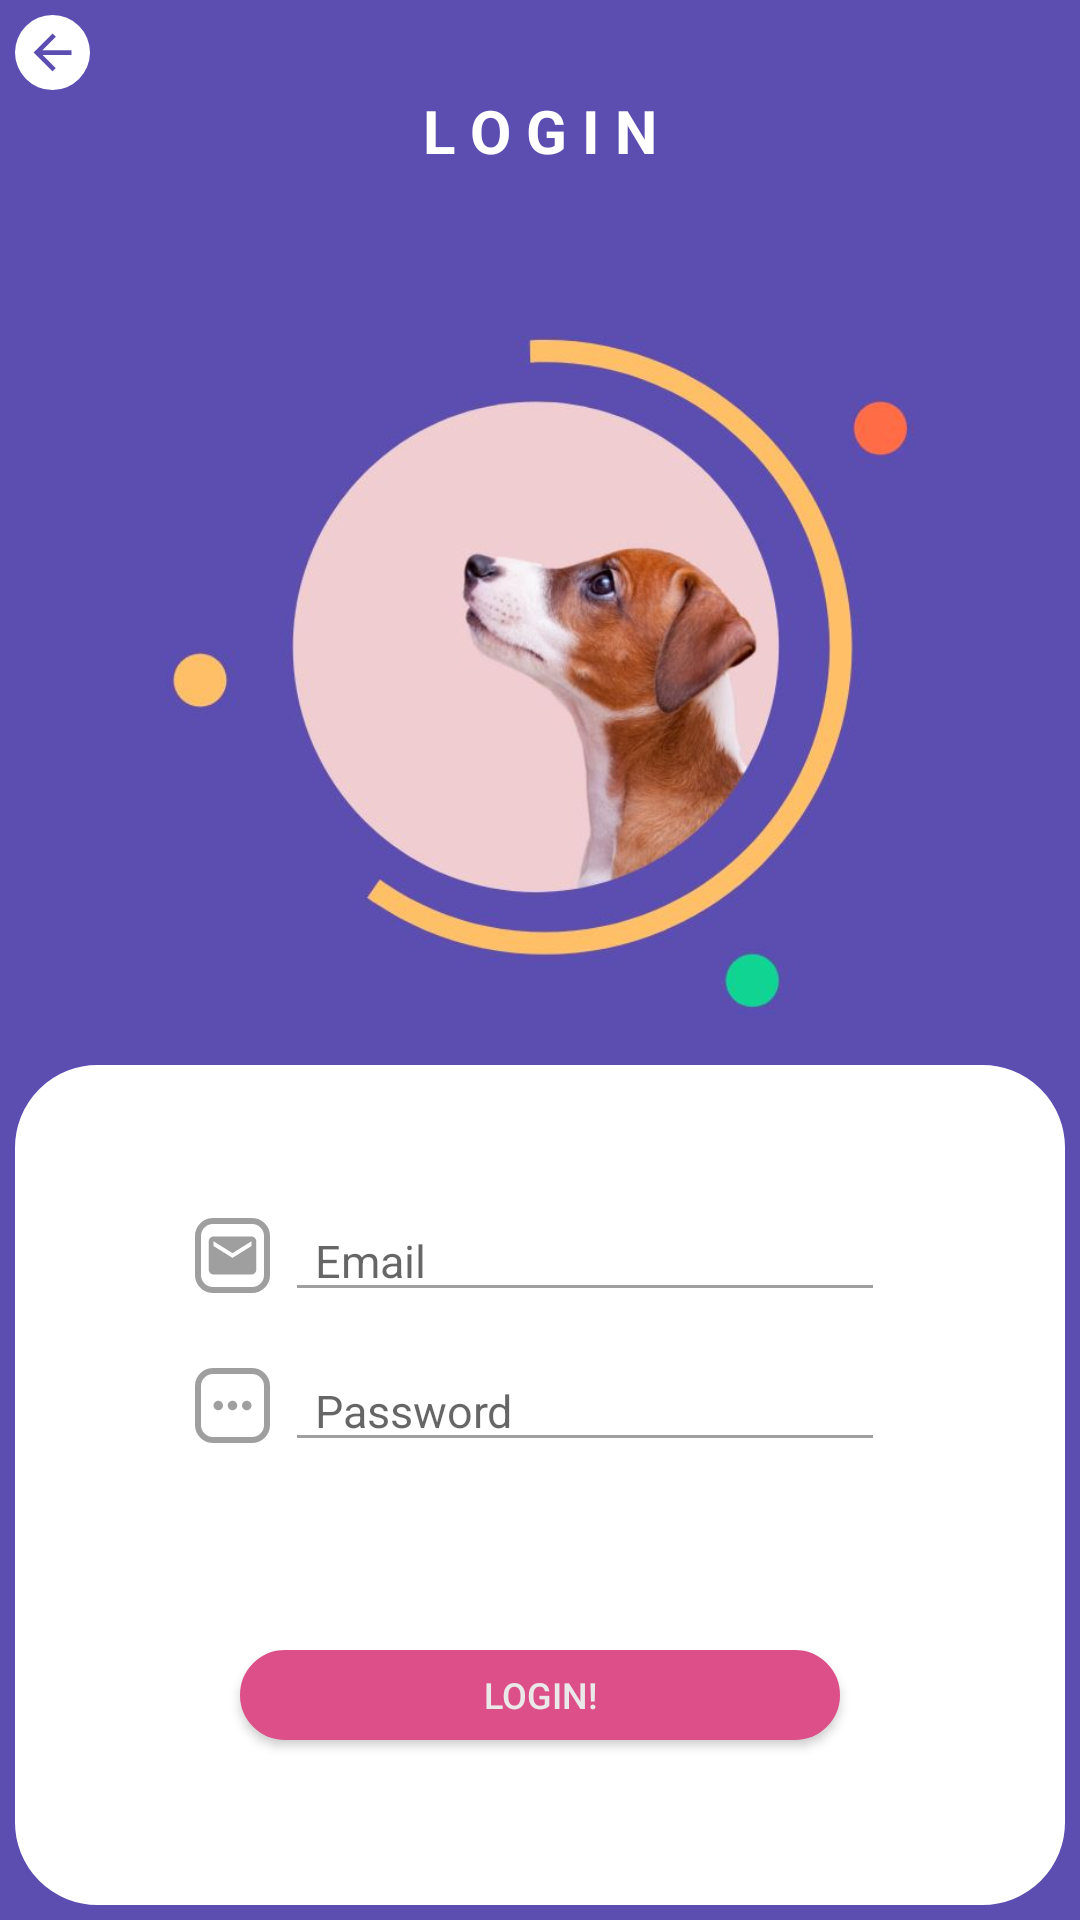

Screen size 1080 x 1920. Icon name, then its box in pixels as (x1, y1, x2, y2):
back: (15, 15, 90, 90)
